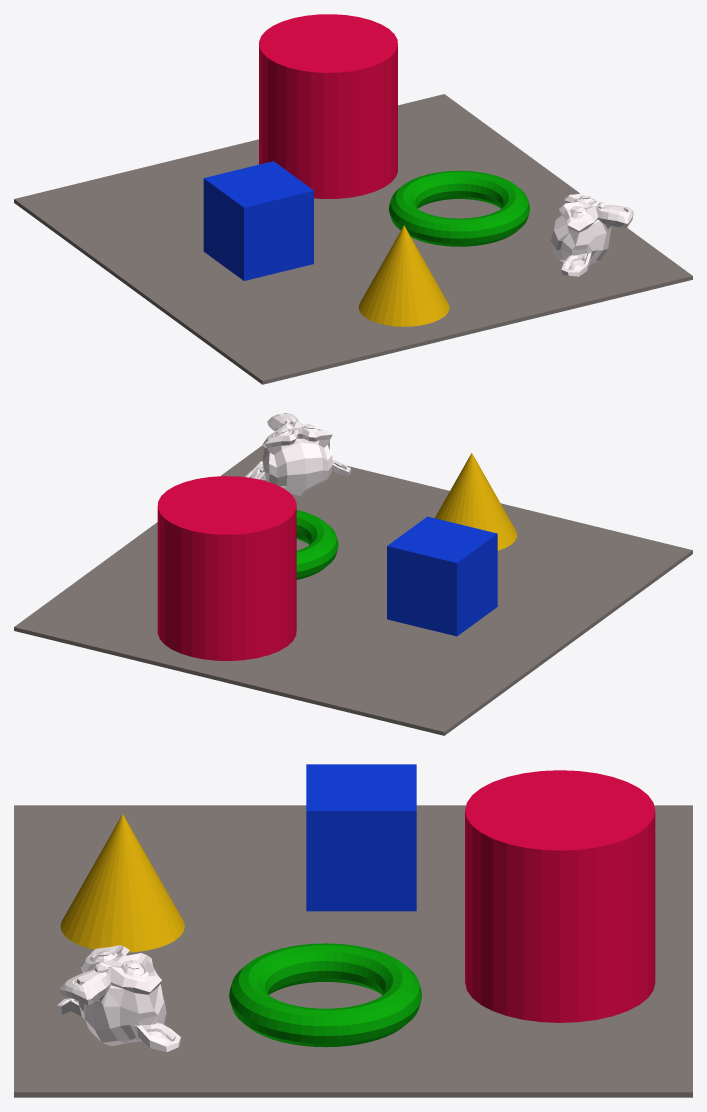
Rendered from light_tiling_test.glb.
The picture shows the model from 3 angles, top to bottom: view 1: azimuth 30°, elevation 25°; view 2: azimuth 150°, elevation 25°; view 3: azimuth 270°, elevation 25°; orthographic projection. The views are drawn at different scales.
Visible parts, largest first — view 1: Cube.001, Cylinder, Cube, Torus, Cone, Suzanne; view 2: Cube.001, Cylinder, Cube, Suzanne, Cone, Torus; view 3: Cube.001, Cylinder, Cube, Torus, Cone, Suzanne.
Boxes of the visible parts, bbox=[...] form: Cube.001: bbox=[14, 94, 692, 384]; Cylinder: bbox=[259, 14, 397, 198]; Cube: bbox=[203, 161, 313, 280]; Torus: bbox=[388, 170, 529, 246]; Cone: bbox=[358, 225, 449, 326]; Suzanne: bbox=[550, 193, 633, 276]; Cube.001: bbox=[14, 445, 692, 735]; Cylinder: bbox=[157, 476, 296, 660]; Cube: bbox=[387, 516, 497, 636]; Suzanne: bbox=[245, 413, 351, 495]; Cone: bbox=[435, 453, 517, 550]; Torus: bbox=[296, 510, 338, 579]; Cube.001: bbox=[14, 805, 692, 1097]; Cylinder: bbox=[465, 770, 655, 1022]; Cube: bbox=[306, 764, 416, 911]; Torus: bbox=[229, 943, 421, 1047]; Cone: bbox=[60, 814, 184, 952]; Suzanne: bbox=[56, 945, 180, 1051].
Bounding box in the file's own units: 236 × 68.04 × 236.
